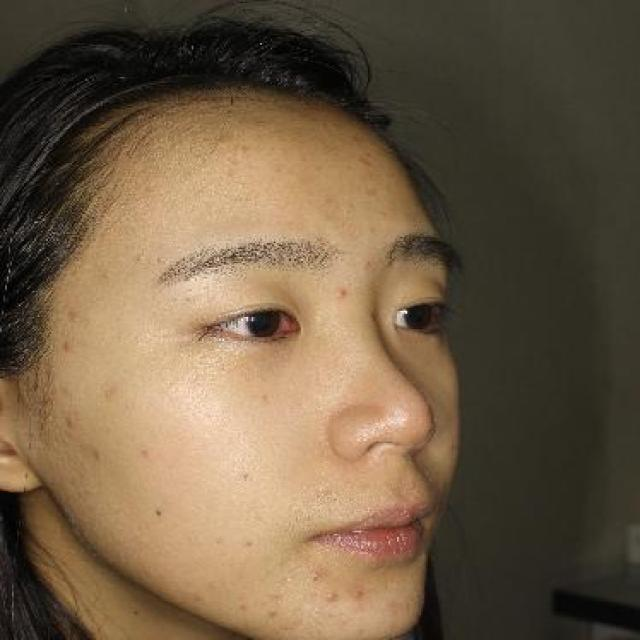Acne: (342, 146, 381, 179), (87, 382, 131, 408), (82, 434, 109, 474), (54, 303, 92, 326), (53, 412, 85, 436), (53, 337, 90, 357), (135, 442, 159, 465), (265, 604, 280, 622), (235, 600, 252, 615)
Dark-Spots: (238, 468, 257, 485), (241, 535, 260, 552), (150, 504, 168, 520)
Whiteheads: (323, 279, 358, 308), (342, 580, 374, 606), (303, 563, 328, 586), (318, 588, 341, 606), (97, 266, 119, 283), (151, 250, 171, 268), (131, 250, 152, 264)
